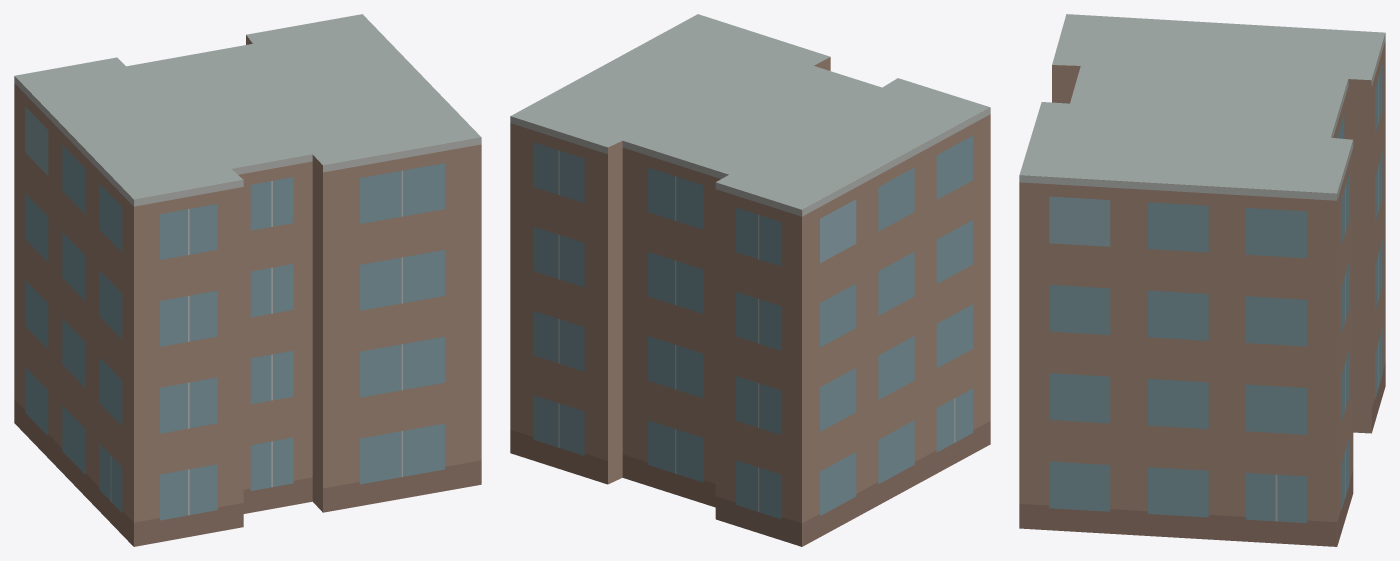
Rendered from survey-upis-33006013.glb.
The picture shows the model from 3 angles, left to right: view 1: azimuth 30°, elevation 25°; view 2: azimuth 150°, elevation 25°; view 3: azimuth 270°, elevation 25°; orthographic projection. The views are drawn at different scales.
Visible parts, largest first — view 1: survey-upis-33006013.tmp; view 2: survey-upis-33006013.tmp; view 3: survey-upis-33006013.tmp.
Part boxes in pixels (x1,y1,x2,y2): survey-upis-33006013.tmp: (14, 14, 481, 546); survey-upis-33006013.tmp: (510, 14, 990, 546); survey-upis-33006013.tmp: (1019, 14, 1385, 546).
Bounding box in the file's own units: 13.09 × 12 × 11.28.
